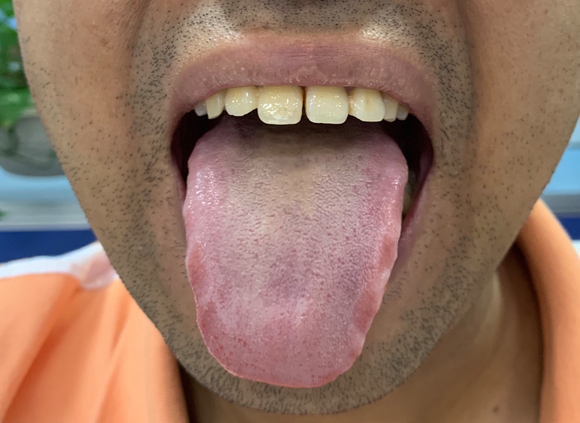chihenshe: (351, 171, 408, 358), (184, 200, 219, 357)
huangtaishe: (183, 118, 409, 389)
